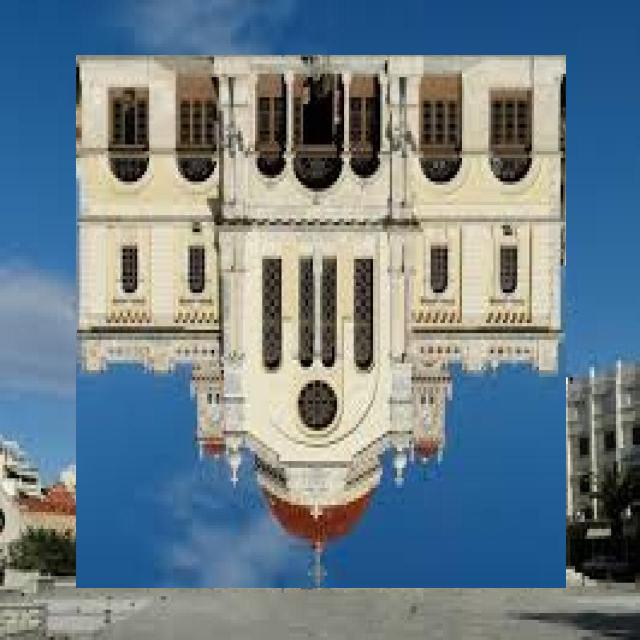Agios Minas: (77, 56, 567, 589)
